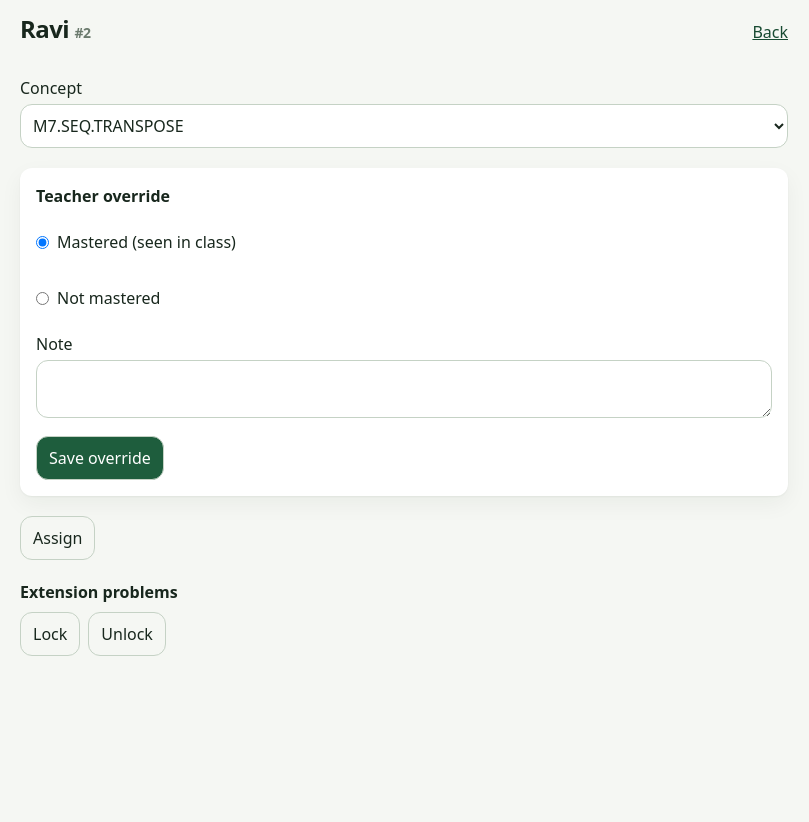
it: teacher actions › saves an override with a note, assigns a concept and locks extension for one student
Select "M8.LEQ.ONE_SIDE" in the dropdown labelled "Concept" at (404, 126), box [20, 104, 788, 148]
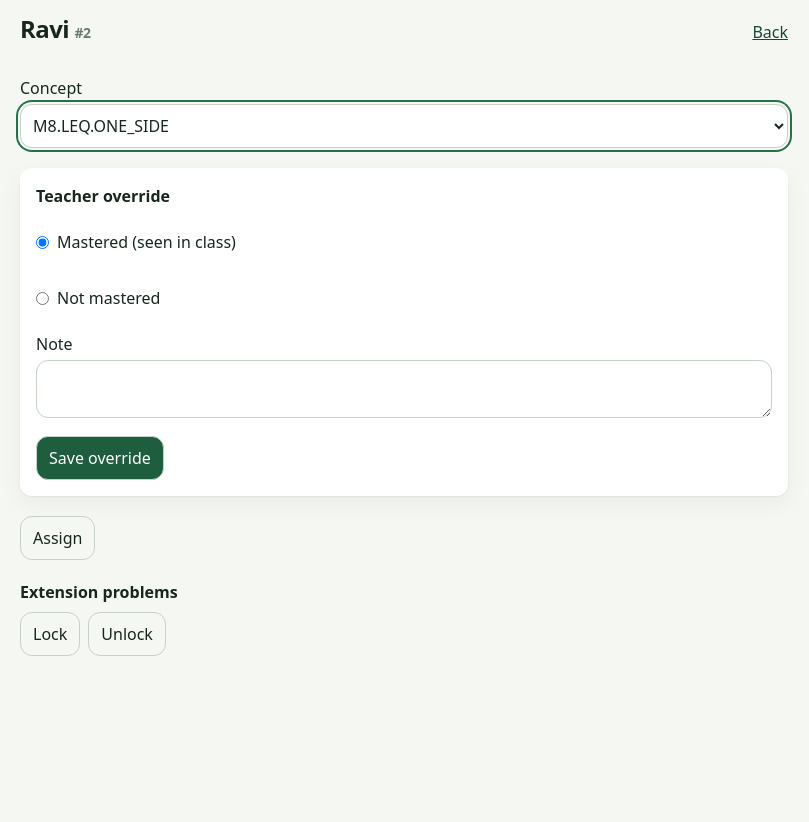
Click the radio button labelled "Mastered (seen in class)".
click(42, 242)  # box [36, 236, 49, 248]
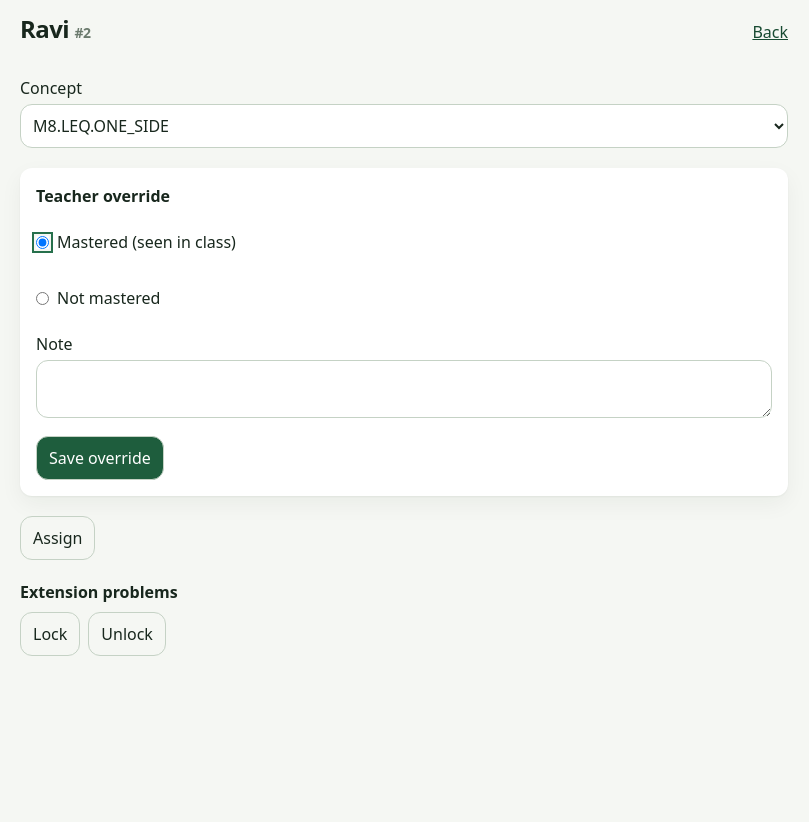
Type "Solved it on the board" into the text box labelled "Note".
click(404, 389); type("Solved it on the board")  # box [36, 360, 772, 418]
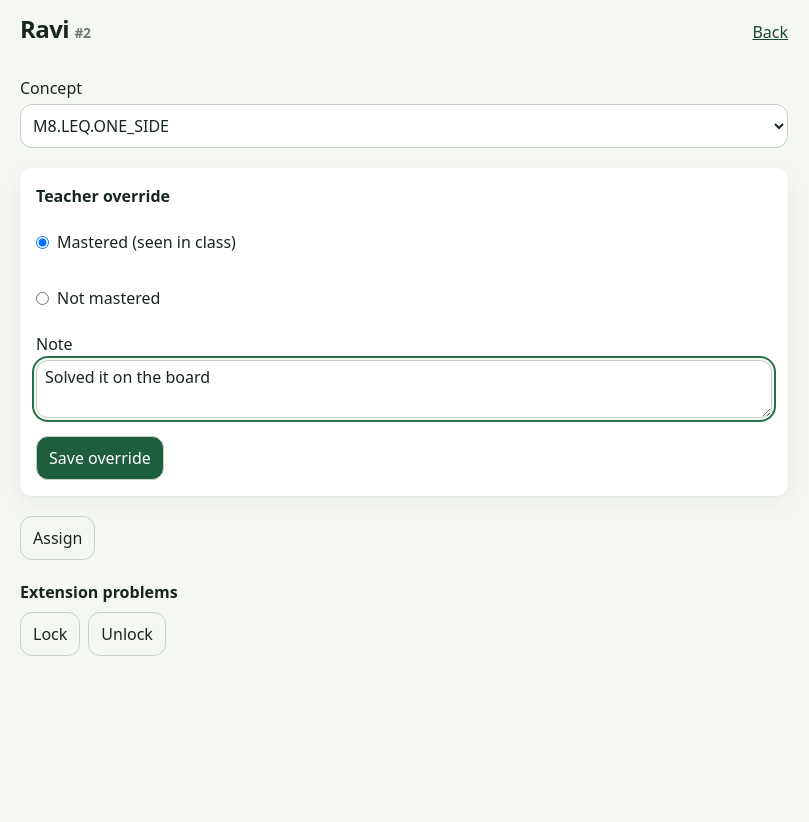
Click the button "Save override".
click(100, 458)  # box [36, 436, 164, 480]
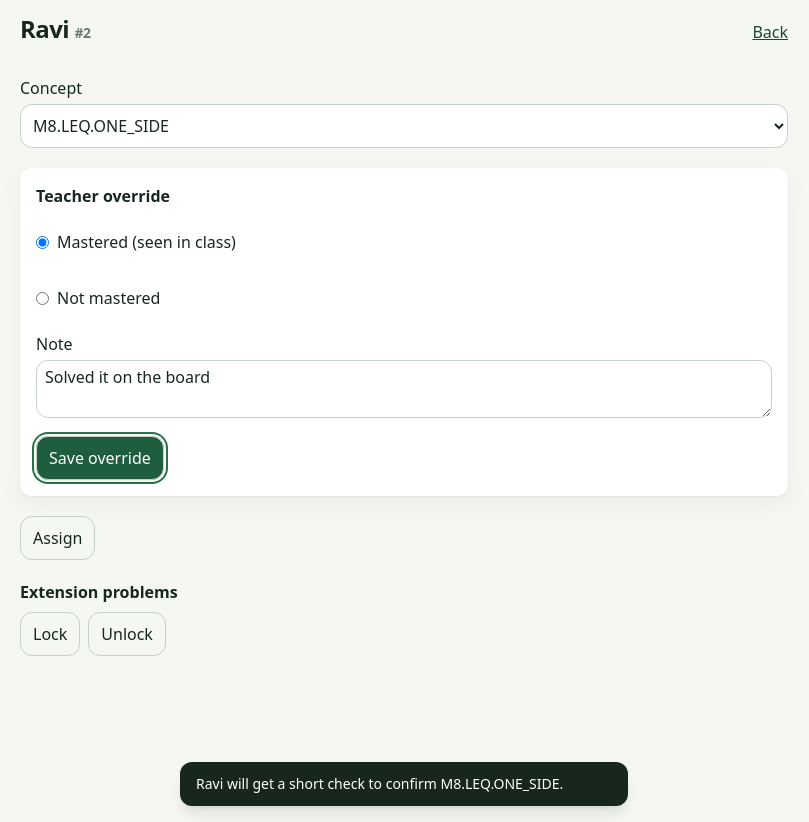
Now the message with test id "toast" reads "Ravi will get a short check to confirm M8.LEQ.ONE_SIDE.", box [196, 774, 563, 793]
Click the button "Assign".
click(58, 538)  # box [20, 516, 95, 560]
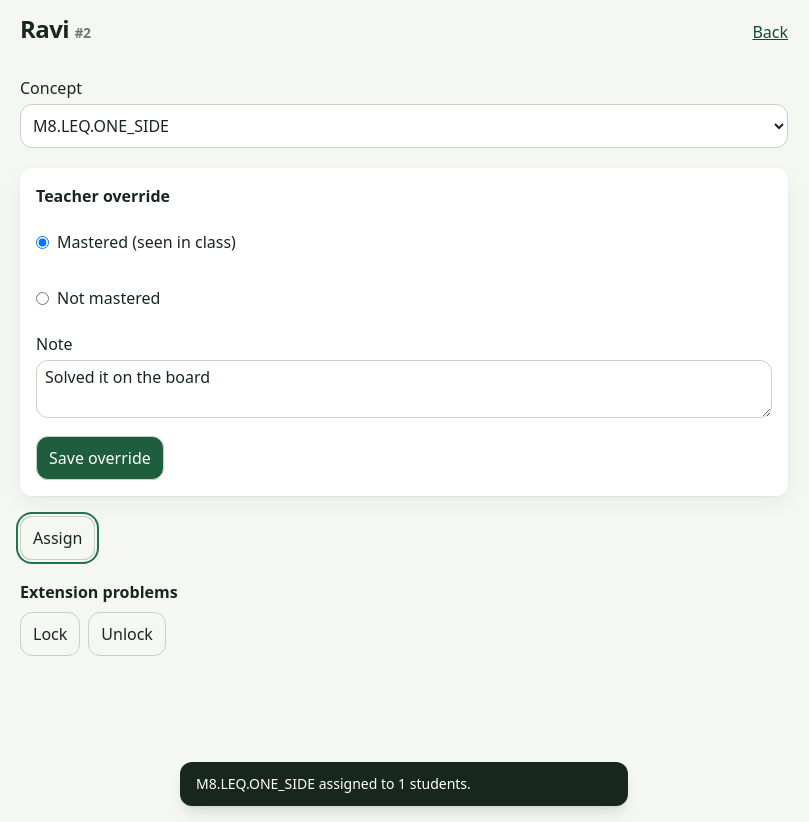
Now the message with test id "toast" reads "M8.LEQ.ONE_SIDE assigned to 1 students.", box [196, 774, 471, 793]
Click the button "Lock".
click(50, 634)  # box [20, 612, 80, 656]
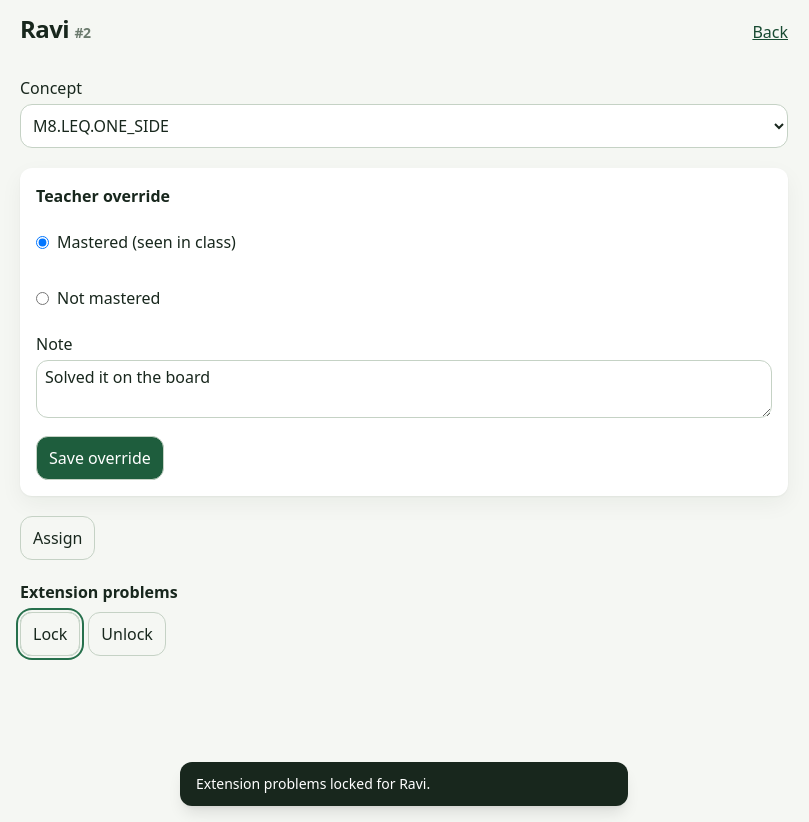
Now the text "Extension problems locked for Ravi." is shown, box [180, 762, 628, 806]
